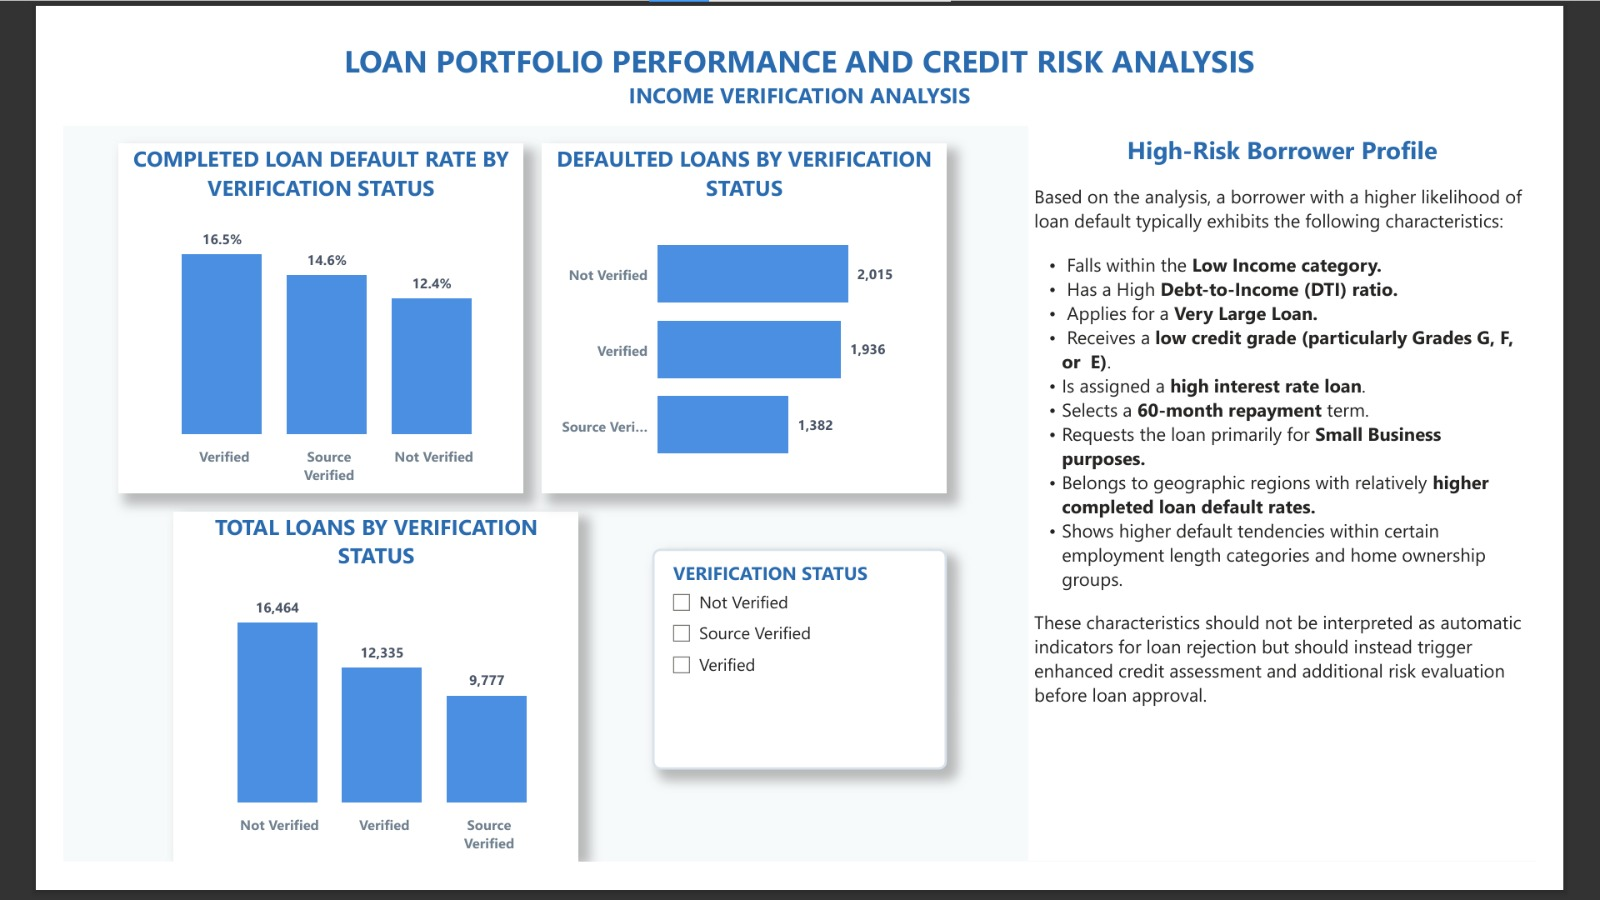

Layout of this report page (visuals, bound fields, positions):
{"tool":"powerbi","page":{"name":"Page 5","canvas":[1280,720],"ordinal":4},"visuals":[{"type":"clusteredColumnChart","title":"COMPLETED LOAN DEFAULT RATE BY VERIFICATION STATUS","fields":{"Y":["_MEASURES.COMPLETED LOAN DEFAULT RATE"],"Category":["financial_loan_cleaned.verification_status"]},"box":[48,96,352,304],"z":0},{"type":"clusteredColumnChart","title":"TOTAL LOANS BY VERIFICATION STATUS","fields":{"Y":["_MEASURES.TOTAL LOANS"],"Category":["financial_loan_cleaned.verification_status"]},"box":[48,416,352,288],"z":1000},{"type":"clusteredBarChart","title":"DEFAULTED LOANS BY VERIFICATION STATUS","fields":{"Y":["_MEASURES.DEFAULTED LOANS"],"Category":["financial_loan_cleaned.verification_status"]},"box":[416,96,352,304],"z":2000},{"type":"textbox","box":[0,0,1280,80],"z":3000},{"type":"textbox","box":[838.9,80.7,441.4,639.5],"z":4000},{"type":"slicer","fields":{"Values":["financial_loan_cleaned.verification_status"]},"box":[464,448,256,192],"z":5000}]}

Visuals, with their boxes in screenshot pixels (x1, y1, x2, y2), scaled from the page's 1280x720 canvas onto the 1600x900 screenshot:
"COMPLETED LOAN DEFAULT RATE BY VERIFICATION STATUS" clusteredColumnChart: <box>60,120,500,500</box>
"TOTAL LOANS BY VERIFICATION STATUS" clusteredColumnChart: <box>60,520,500,880</box>
"DEFAULTED LOANS BY VERIFICATION STATUS" clusteredBarChart: <box>520,120,960,500</box>
textbox: <box>0,0,1599,100</box>
textbox: <box>1049,101,1599,899</box>
slicer - financial_loan_cleaned.verification_status: <box>580,560,900,800</box>
